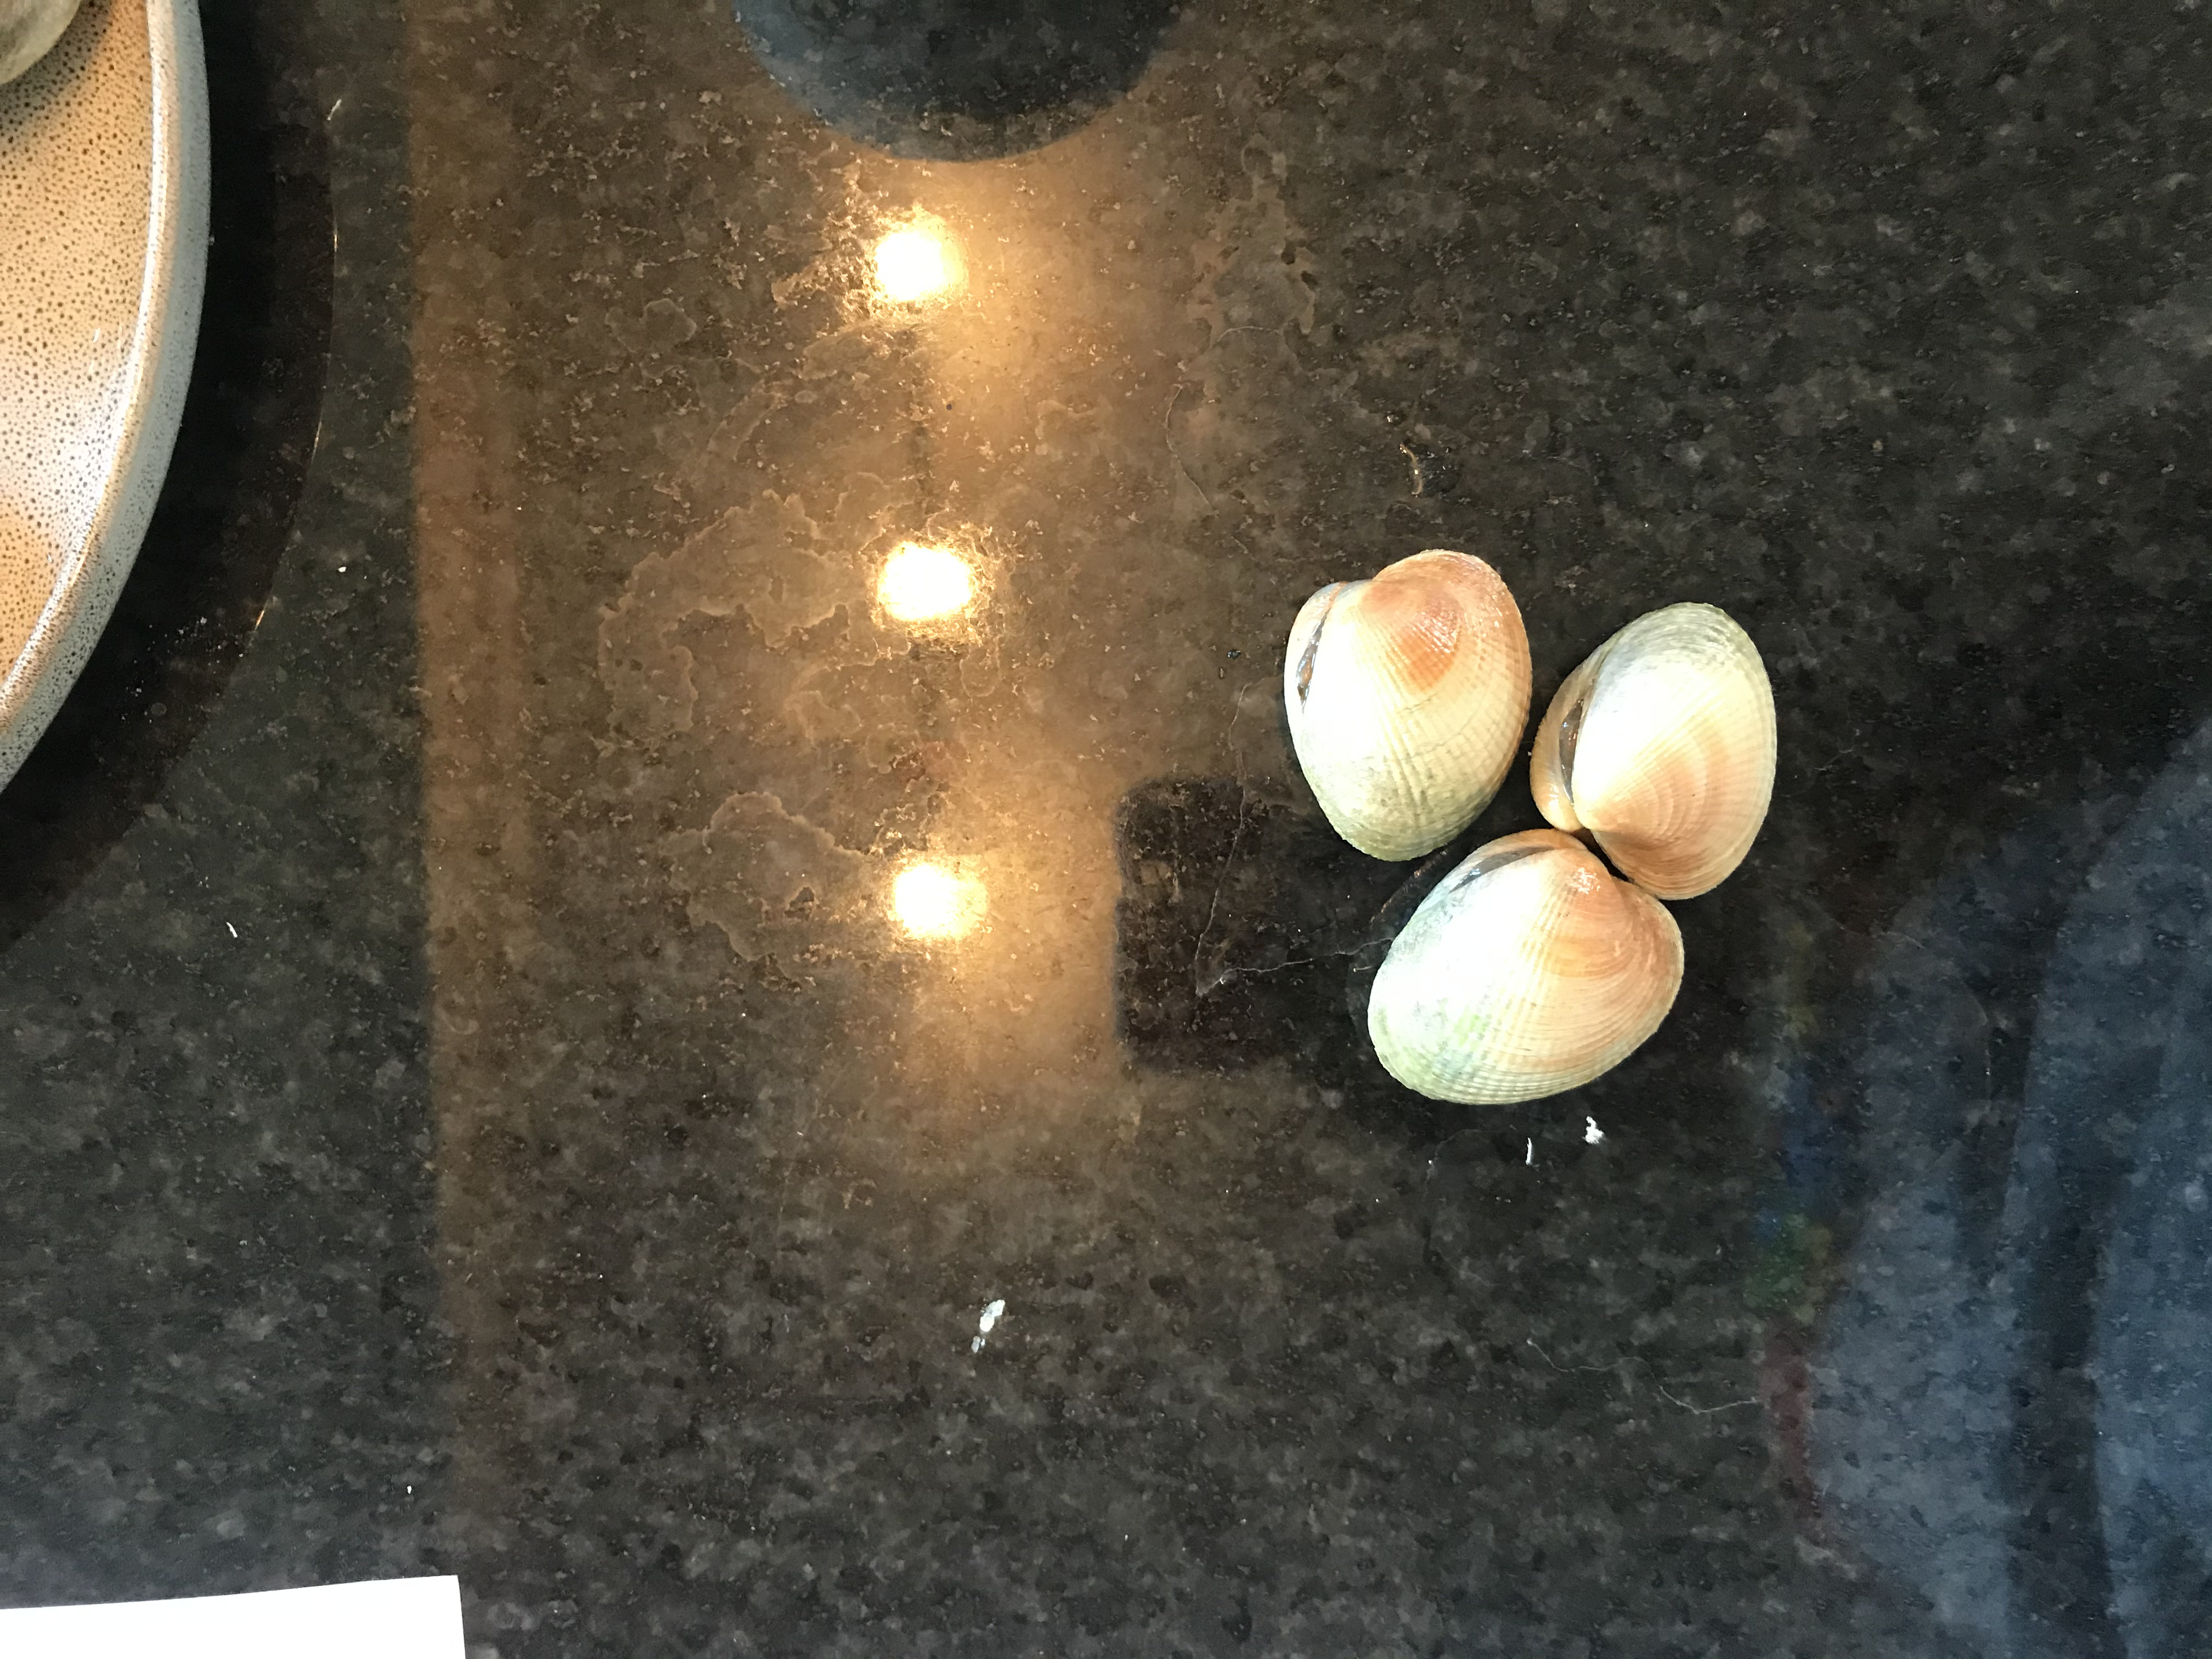cockle: (1357, 826, 1686, 1108), (1529, 594, 1785, 913), (1280, 542, 1534, 863)
